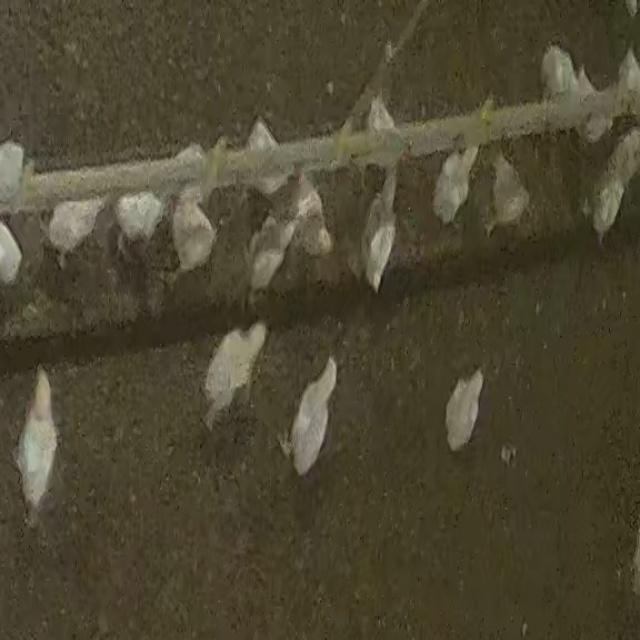chicken: (201, 322, 269, 431), (14, 365, 60, 520), (289, 354, 339, 477), (360, 168, 400, 292), (46, 196, 106, 272), (246, 212, 299, 294), (431, 144, 482, 228), (170, 186, 217, 276), (289, 169, 333, 260), (113, 190, 167, 263), (243, 119, 291, 200), (487, 151, 530, 238), (440, 364, 484, 447), (590, 168, 626, 242), (539, 42, 582, 100), (570, 65, 602, 141)
